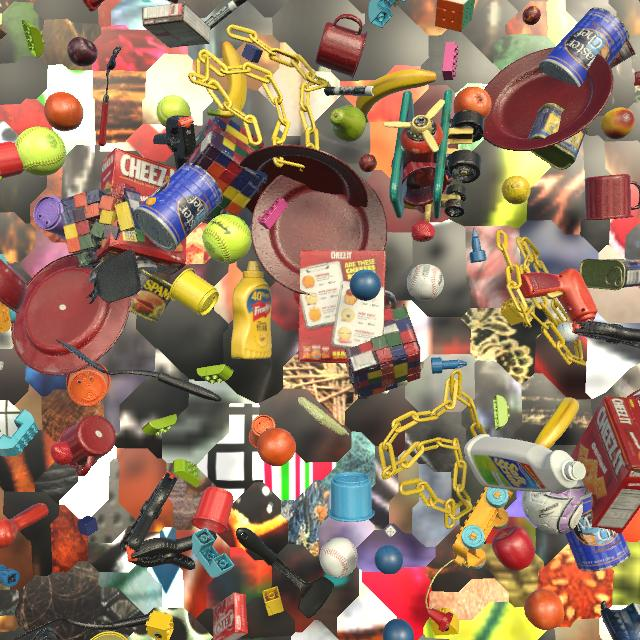ycb_002_master_chef_can: (133, 162, 223, 252), (539, 7, 629, 88), (565, 492, 631, 572)
ycb_003_cracker_box: (96, 148, 187, 275), (298, 250, 385, 363), (571, 396, 640, 535)
ycb_005_tomato_soup_can: (609, 38, 636, 68)
ycb_006_mustard_bottle: (231, 261, 272, 359)
ycb_008_pudding_box: (142, 2, 210, 48)
ycb_009_gelatin_box: (213, 593, 248, 640), (634, 71, 640, 86), (166, 0, 179, 3)
ycb_010_potted_meat_can: (528, 103, 589, 170), (128, 269, 172, 323), (580, 259, 640, 290)
ycb_011_banana: (356, 69, 437, 123), (207, 41, 247, 119), (535, 398, 579, 449), (146, 197, 156, 206)
ycb_012_strawberry: (50, 441, 73, 465), (411, 220, 435, 242)
ycb_013_apple: (492, 526, 535, 571)
ycb_014_lemon: (502, 175, 531, 204)
ycb_015_peach: (601, 108, 635, 140)
ycb_016_pear: (329, 105, 366, 142), (639, 0, 640, 2)
ycb_017_orange: (524, 589, 564, 630), (257, 428, 296, 467), (44, 92, 83, 131), (453, 86, 492, 119)
ycb_018_plum: (67, 37, 98, 67)
